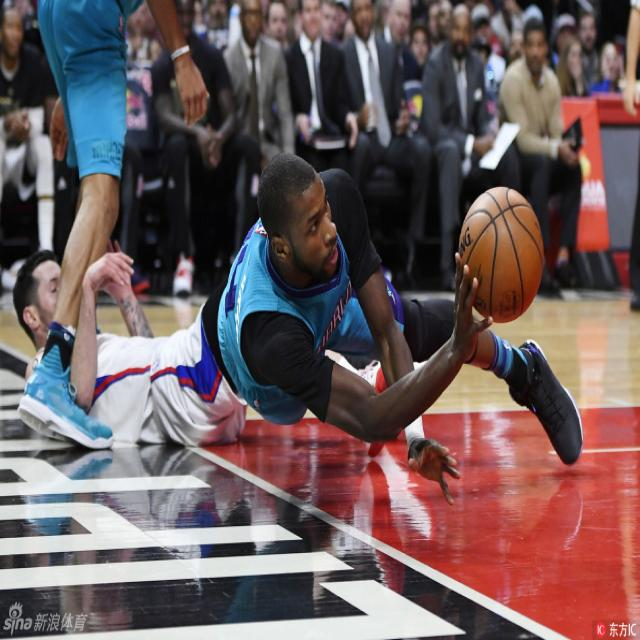10-: (0, 4, 639, 465)
down: (207, 136, 578, 467), (5, 217, 277, 466)
